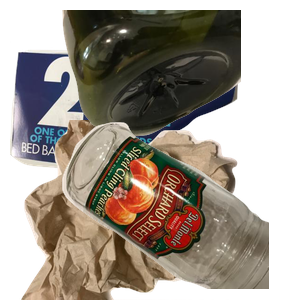glass: (60, 120, 300, 300)
paper: (10, 41, 242, 207)
plastic: (60, 10, 300, 139)
trash: (19, 120, 249, 300)
